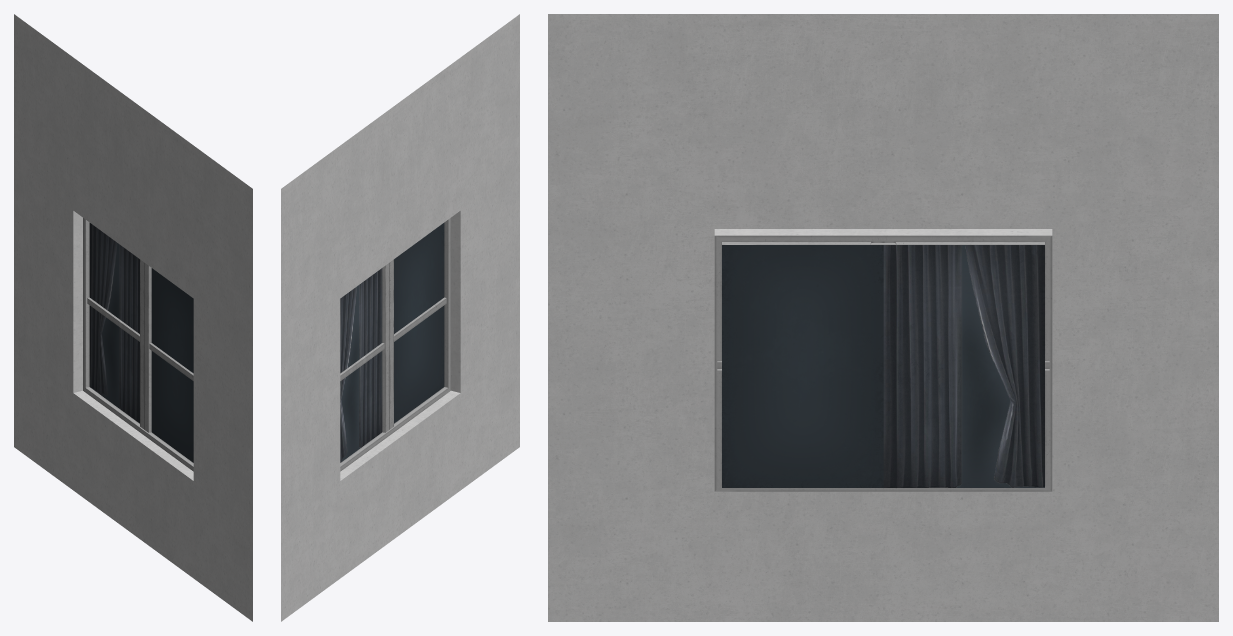
File: MB_Wall_Window_A_01.fbx
The picture shows the model from 3 angles, left to right: view 1: azimuth 30°, elevation 25°; view 2: azimuth 150°, elevation 25°; view 3: azimuth 270°, elevation 25°; orthographic projection. The views are drawn at different scales.
Parts seen in each view (by area): view 1: MB_Wall_Window_A_01; view 2: MB_Wall_Window_A_01; view 3: MB_Wall_Window_A_01.
Part boxes in pixels (box(x1,y1,x2,y2)): MB_Wall_Window_A_01: box(14, 14, 252, 621); MB_Wall_Window_A_01: box(281, 14, 519, 621); MB_Wall_Window_A_01: box(548, 14, 1218, 621).
Size of the model in its own units: 13.32 by 400 by 400.
